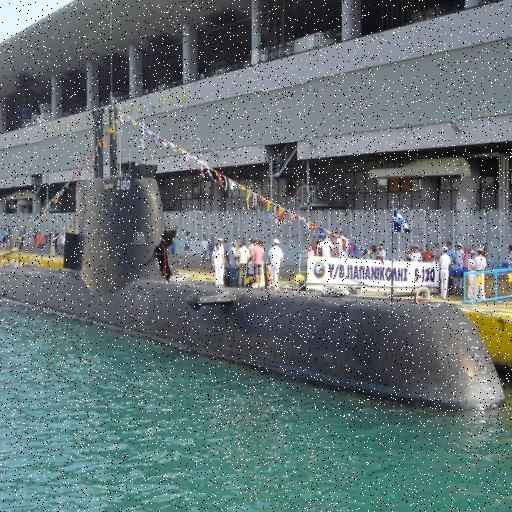submarine: (1, 93, 511, 412)
